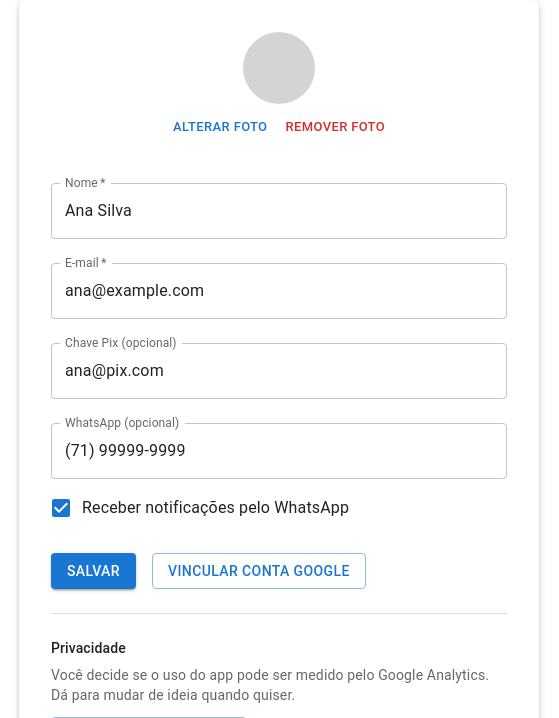
Test: Profile › removes the photo via DELETE /api/user/photo and falls back to initials
Expected: the field showing "Ana Silva" is shown, [51,183,507,239]
Click the button "Remover foto". click: coordinates (335, 127)
box: [280,112,390,143]
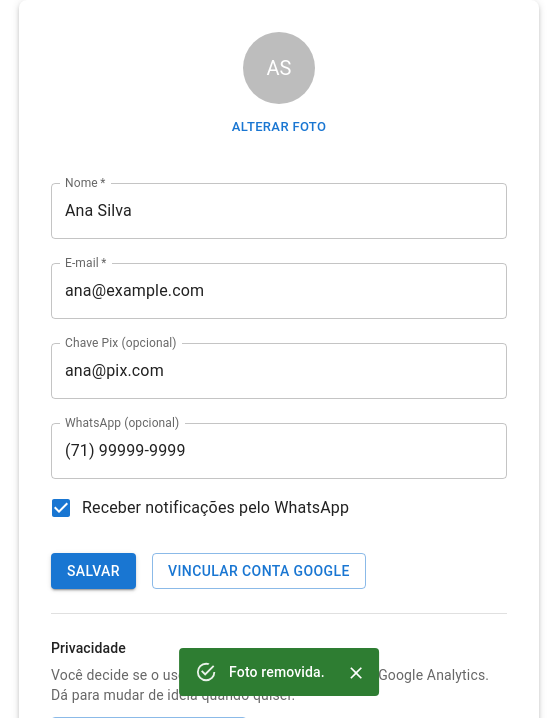
Expected: the text "AS" is shown, [243,32,315,104]
Expected: the picture is gone
Expected: the text "Foto removida." is shown, [229,664,325,680]
